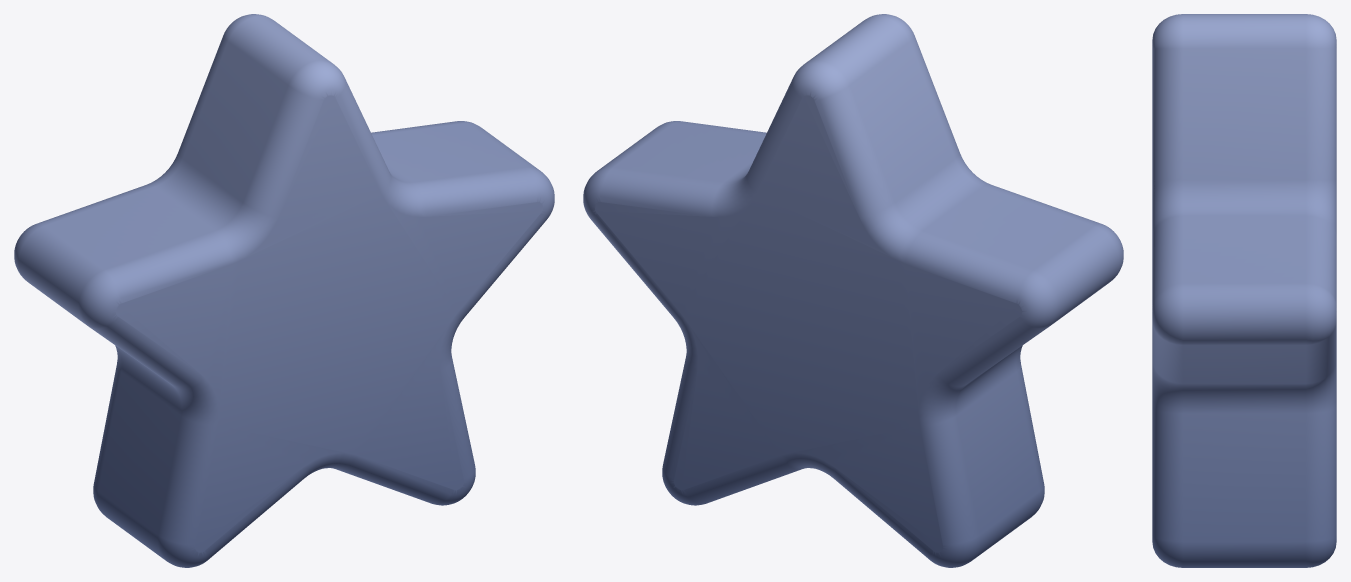
The model's file is star_off.glb.
3 views of the same model, side by side, from view 1: azimuth 30°, elevation 25°; view 2: azimuth 150°, elevation 25°; view 3: azimuth 270°, elevation 25° (orthographic). The views are drawn at different scales.
Parts seen in each view (by area): view 1: star; view 2: star; view 3: star.
Part boxes in pixels (box(x1,y1,x2,y2)): star: box(14, 14, 554, 567); star: box(583, 14, 1123, 567); star: box(1152, 14, 1336, 567).
Bounding box in the file's own units: 0.085 × 0.0814 × 0.0281.
